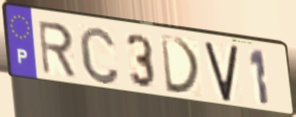1: (248, 49, 272, 108)
3: (124, 32, 157, 90)
C: (77, 24, 122, 87)
D: (159, 33, 204, 97)
R: (36, 19, 79, 80)
V: (203, 41, 240, 104)
